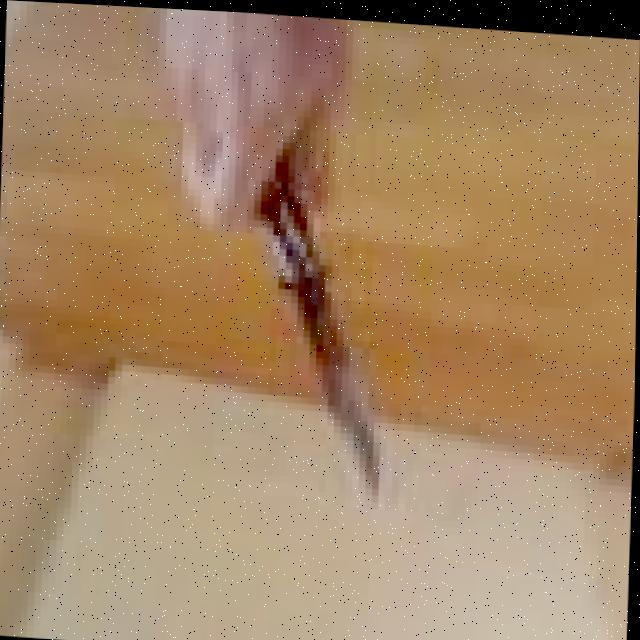knife: (253, 186, 400, 506)
